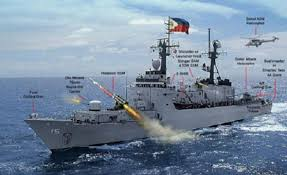tau_muctieu: (22, 49, 273, 146)
ten_lua: (90, 78, 124, 108)
